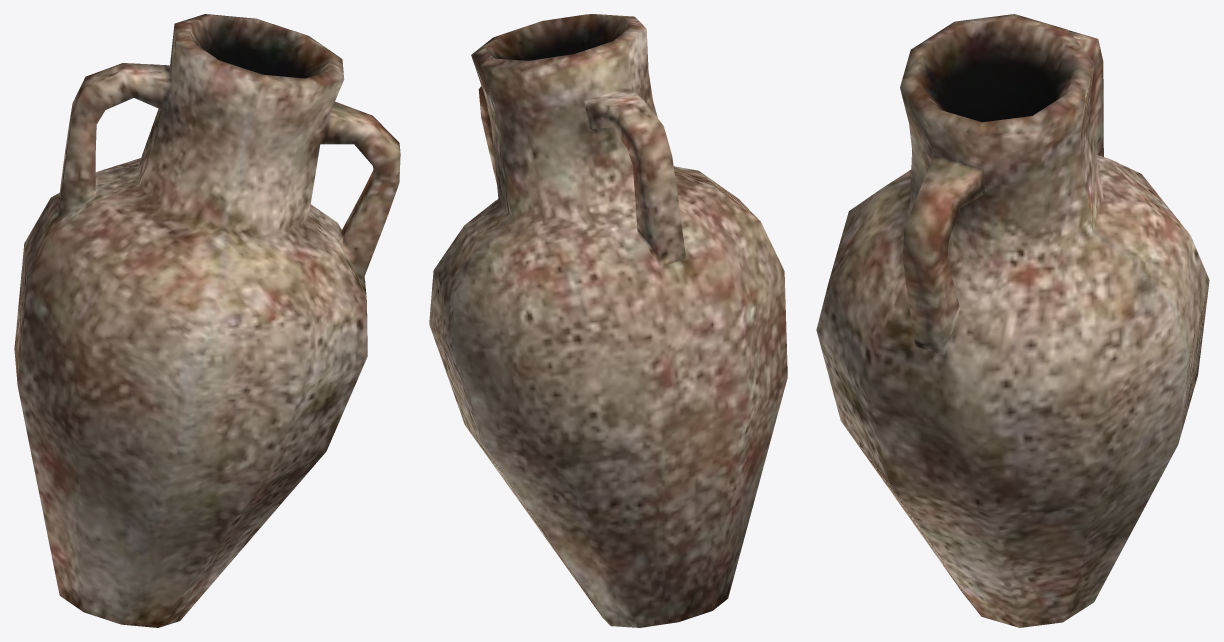
File: anfora.glb
3 views of the same model, side by side, from view 1: azimuth 30°, elevation 25°; view 2: azimuth 150°, elevation 25°; view 3: azimuth 270°, elevation 25° (orthographic). The views are drawn at different scales.
Parts seen in each view (by area): view 1: Object002__0; view 2: Object002__0; view 3: Object002__0.
Part boxes in pixels (x1,y1,x2,y2): Object002__0: (14, 14, 400, 627); Object002__0: (429, 14, 787, 627); Object002__0: (816, 14, 1209, 627).
Bounding box in the file's own units: 0.62 × 1.03 × 0.5967.
Materials: 1 (1 with a texture image).
